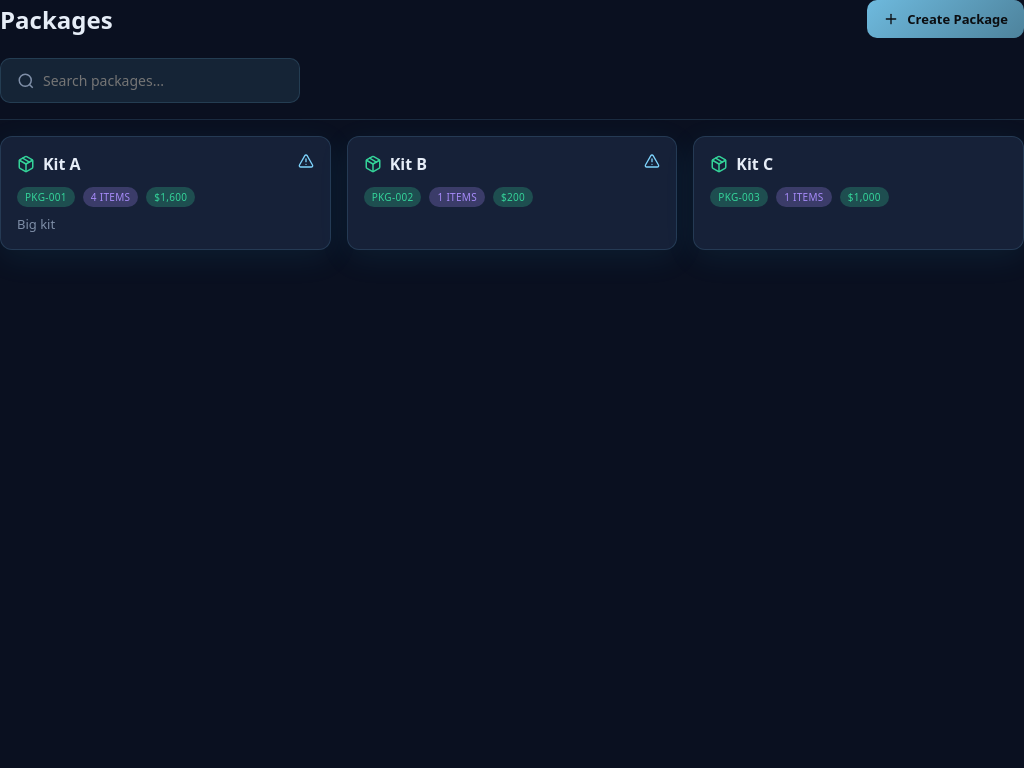
Scenario: Package deletion › confirmation warns when pack lists reference the package
Click the heading "Kit A": (62, 164) [43,153,81,175]
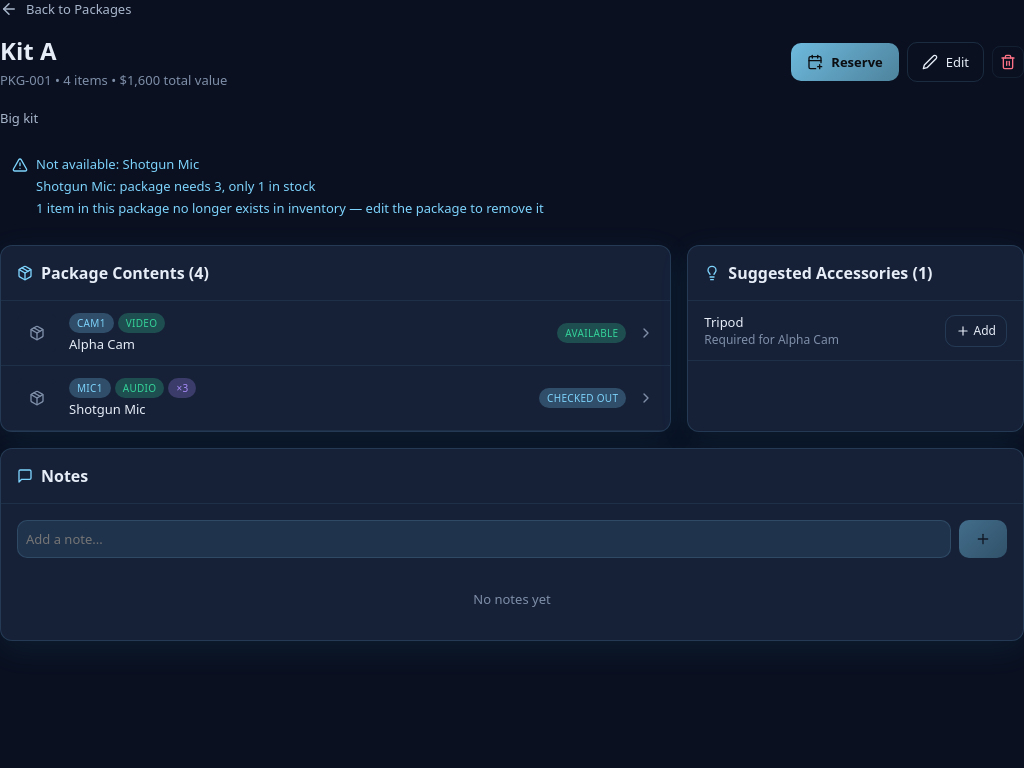
Click the button titled "Delete package": (1008, 62) [992,46,1023,78]
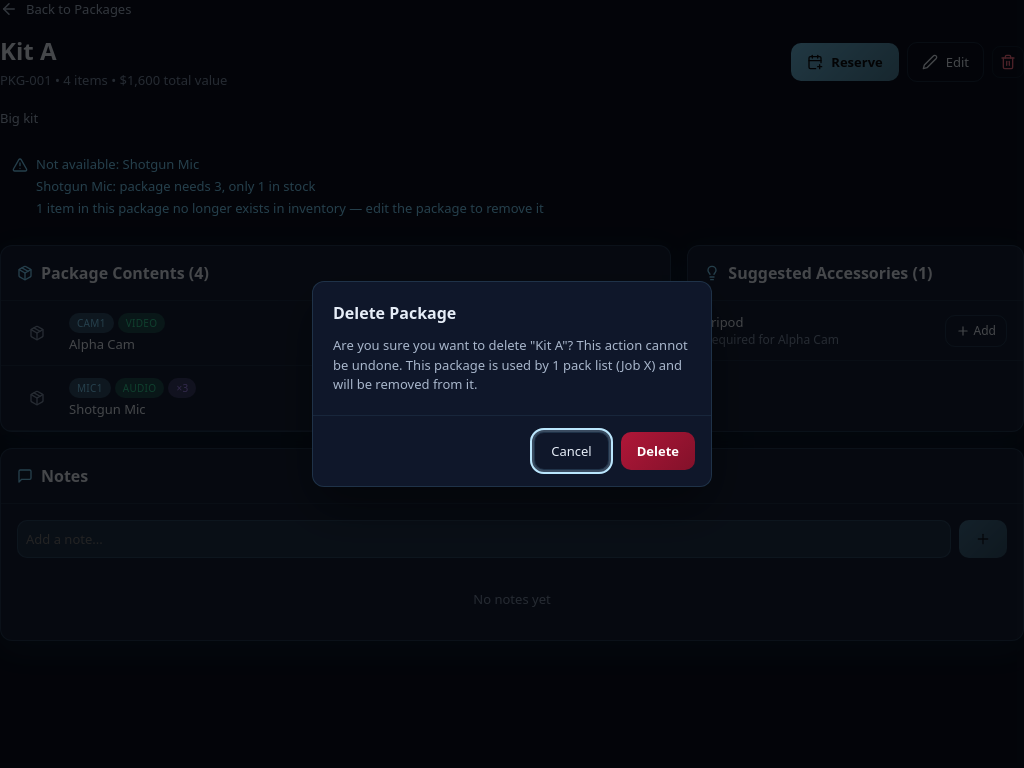
expect the text "used by 1 pack list (Job X)" is shown: met, box [333,336,688,393]
